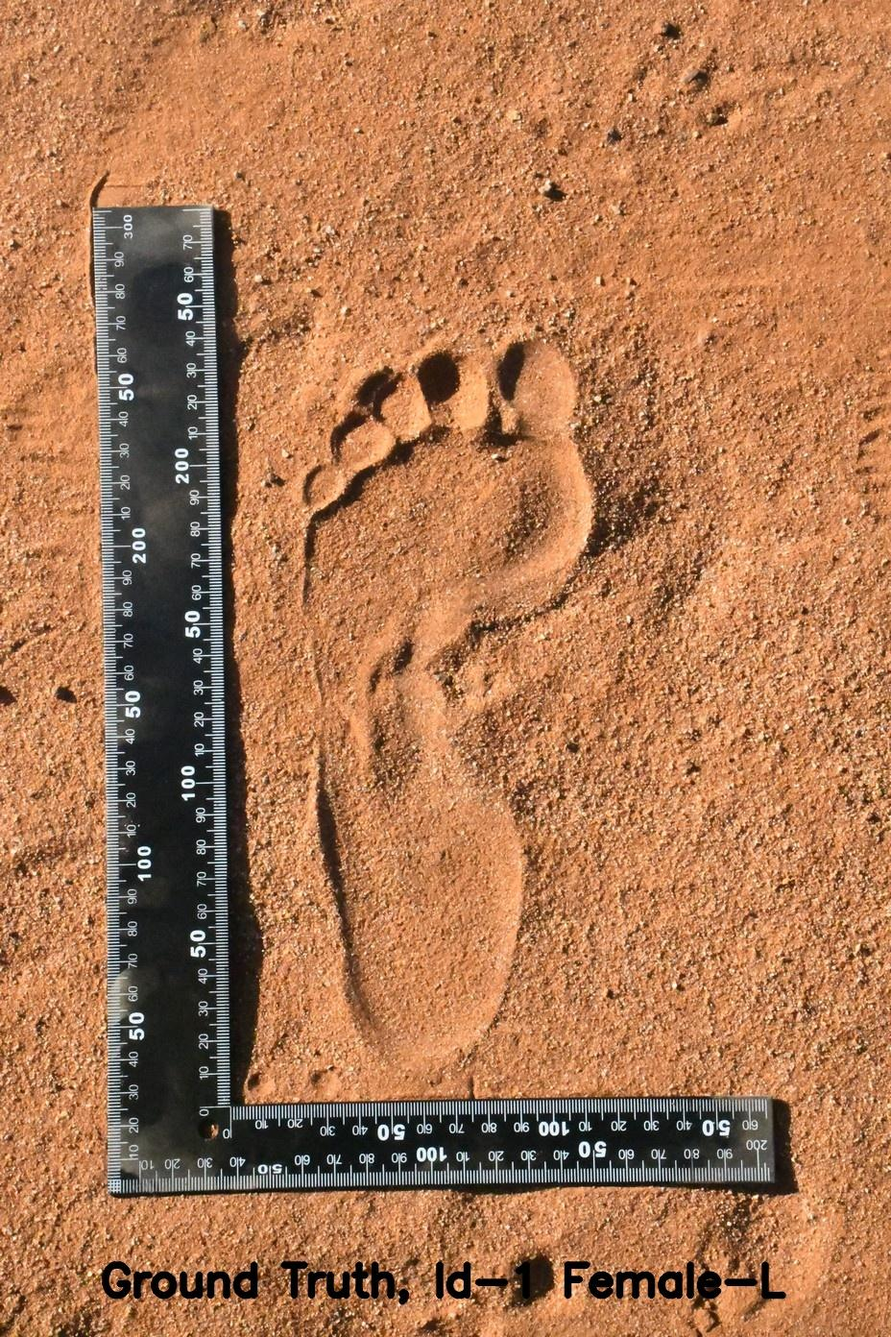human_foot_print: (253, 221, 692, 1120)
